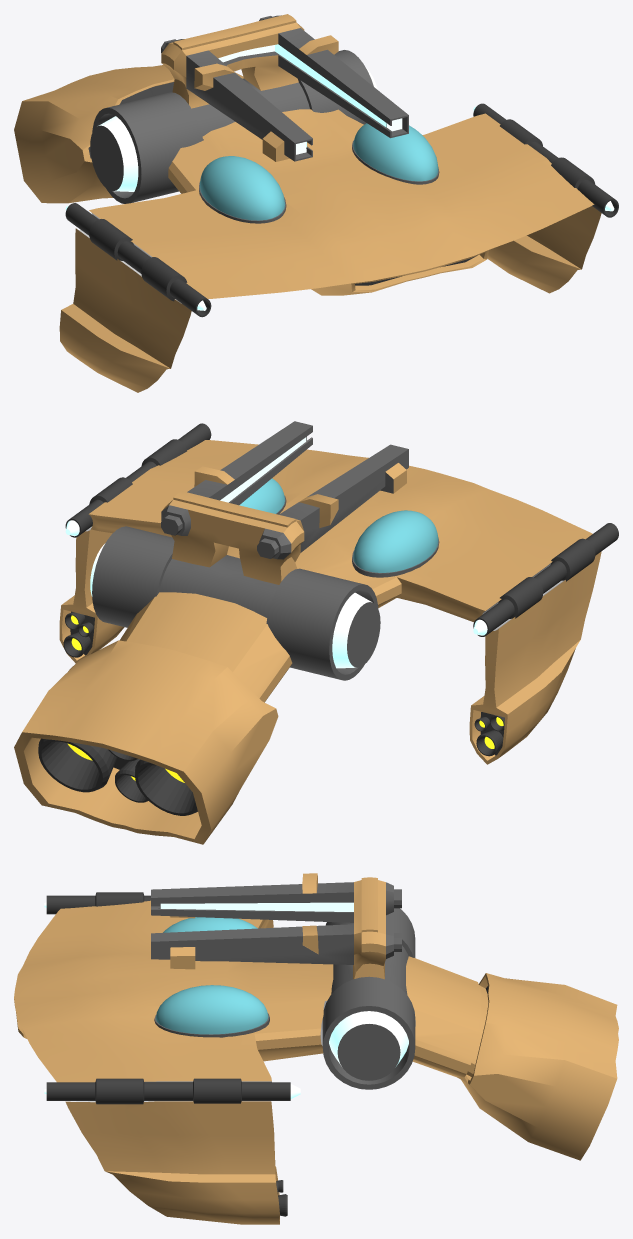
Rendered from StingRay.glb.
The picture shows the model from 3 angles, top to bottom: view 1: azimuth 30°, elevation 25°; view 2: azimuth 150°, elevation 25°; view 3: azimuth 270°, elevation 25°; orthographic projection. The views are drawn at different scales.
Visible parts, largest first — view 1: Cube, Cylinder.010, Cube.002, Cube.003, Sphere, Cylinder.011, Cube.001; view 2: Cube.003, Cylinder.010, Cube, Cube.002, Cylinder.011, Sphere, Cube.001, Cylinder, Cylinder.001, Cylinder.003; view 3: Cube, Cylinder.010, Cube.003, Cube.001, Cylinder.011, Sphere.
Boxes of the visible parts, x1,y1,x2,y2 form: Cube: [89, 109, 594, 298]; Cylinder.010: [90, 14, 408, 203]; Cube.002: [59, 228, 191, 392]; Cube.003: [14, 65, 243, 203]; Sphere: [199, 123, 439, 223]; Cylinder.011: [65, 103, 618, 317]; Cube.001: [487, 206, 601, 293]; Cube.003: [14, 592, 292, 844]; Cylinder.010: [90, 421, 408, 680]; Cube: [89, 440, 592, 622]; Cube.002: [469, 551, 601, 764]; Cylinder.011: [65, 423, 618, 636]; Sphere: [239, 478, 439, 577]; Cube.001: [59, 526, 124, 663]; Cylinder: [38, 738, 117, 792]; Cylinder.001: [135, 759, 197, 815]; Cylinder.003: [115, 759, 148, 802]; Cube: [14, 900, 333, 1082]; Cylinder.010: [151, 873, 415, 1089]; Cube.003: [406, 956, 618, 1160]; Cube.001: [65, 1101, 279, 1224]; Cylinder.011: [44, 892, 300, 1104]; Sphere: [154, 917, 269, 1037].
Size of the model in its own units: 8.48 by 4.39 by 10.6.
